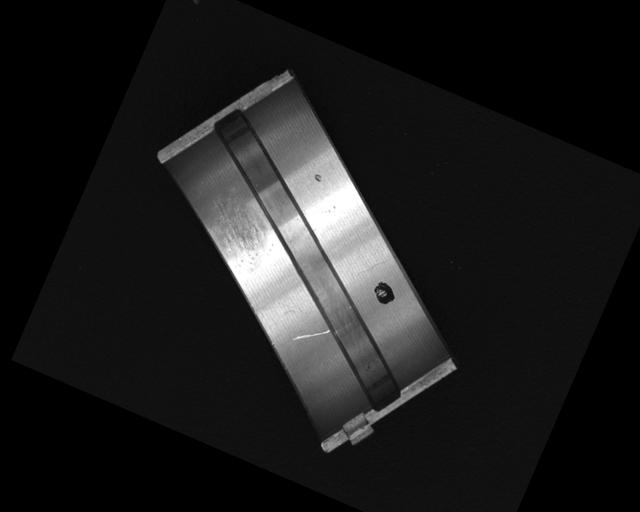blot: (367, 277, 400, 310)
bruise: (311, 172, 324, 185)
gap: (135, 106, 478, 417)
nick: (291, 316, 330, 351), (355, 251, 386, 285)
scratch: (188, 189, 283, 282)
